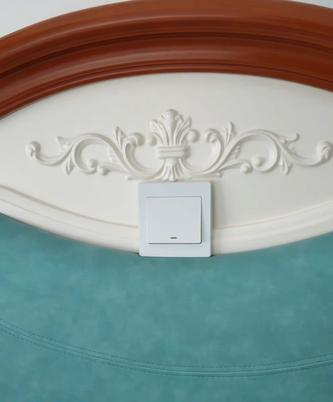switch: (143, 191, 204, 248)
